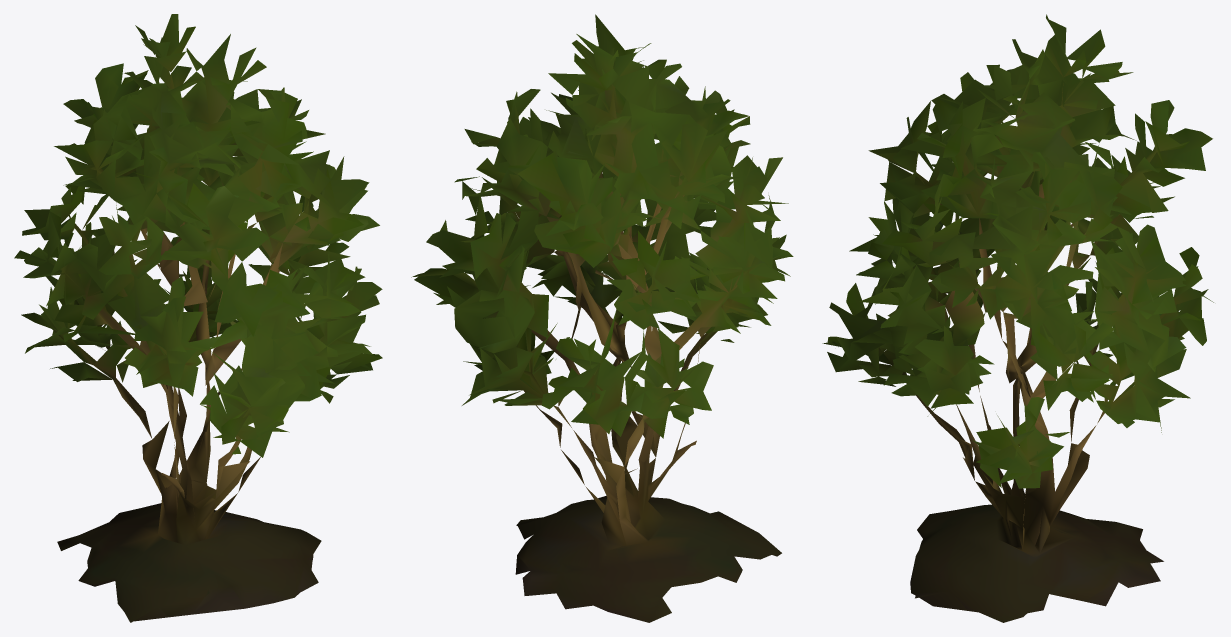
Rendered from nature_tree_laurel.glb.
3 views of the same model, side by side, from view 1: azimuth 30°, elevation 25°; view 2: azimuth 150°, elevation 25°; view 3: azimuth 270°, elevation 25° (orthographic).
Parts seen in each view (by area): view 1: world; view 2: world; view 3: world.
Part boxes in pixels (x1=…): world: x1=14, y1=14, x2=382, y2=622; world: x1=411, y1=14, x2=793, y2=622; world: x1=822, y1=14, x2=1213, y2=622.
Bounding box in the file's own units: 3.09 × 4.49 × 2.97.
